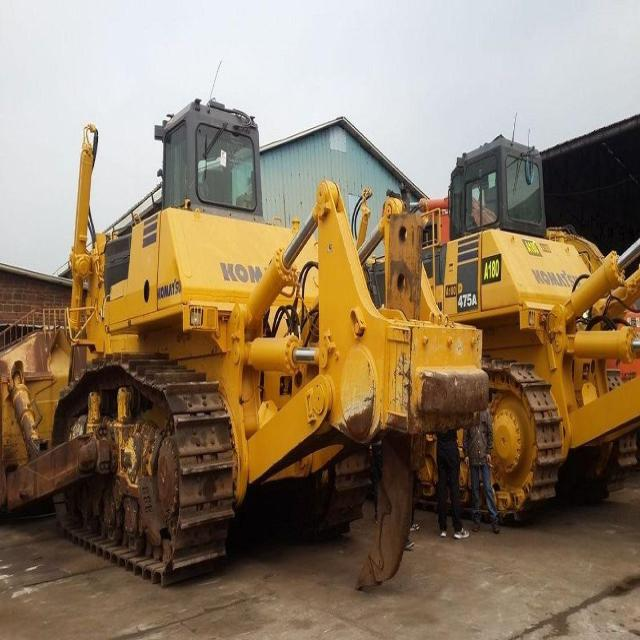bull_dozer/loader/grader: (7, 92, 496, 598)
